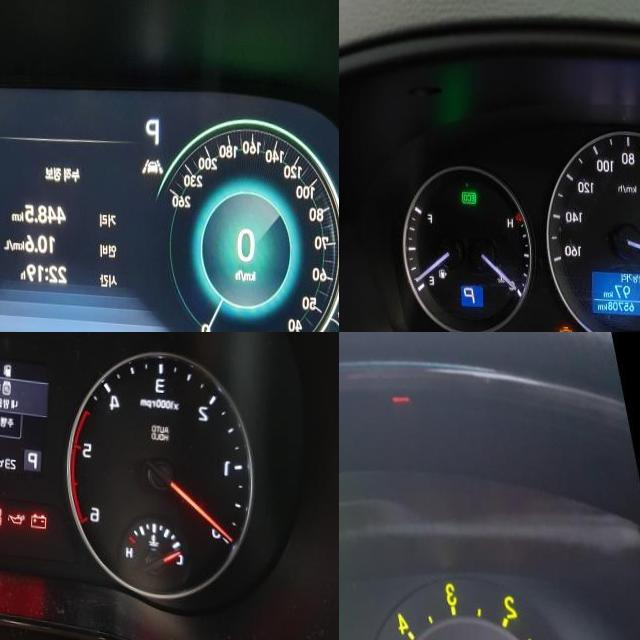LaneCenteringOff: (142, 152, 164, 170)
